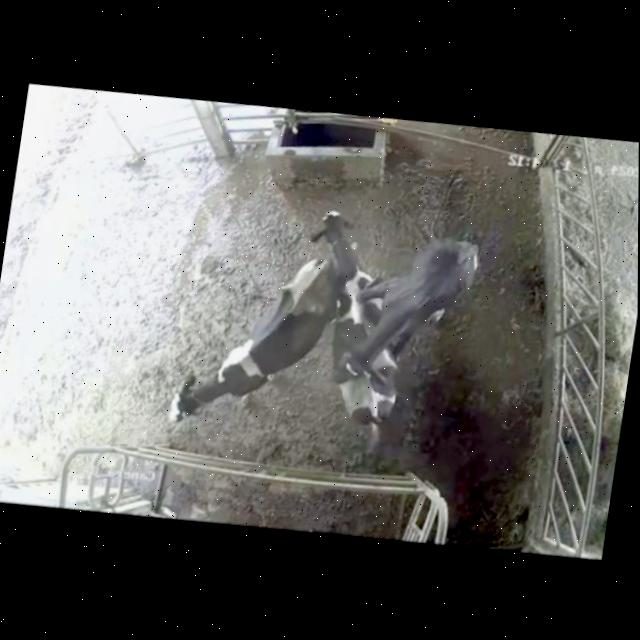ride: (329, 217, 493, 408)
stand: (156, 232, 344, 453), (280, 188, 430, 459)
